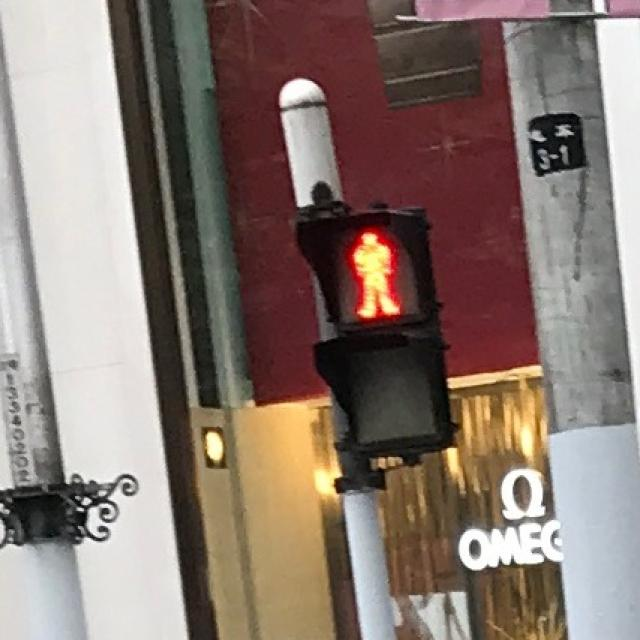red_light: (349, 224, 399, 316)
